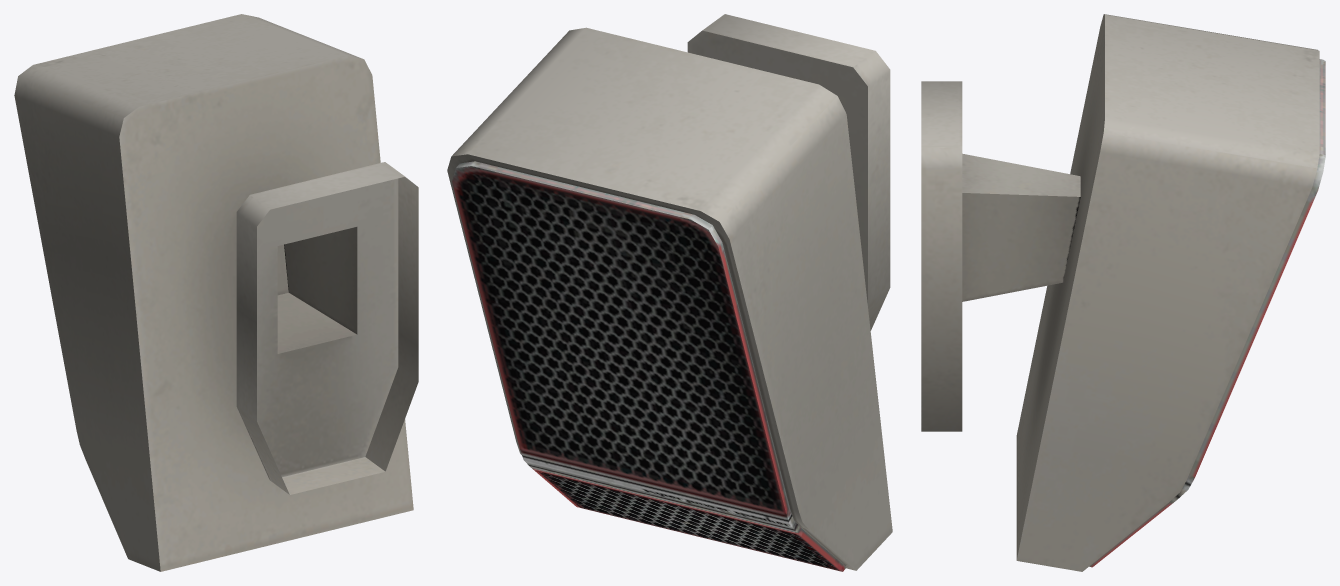
File: Loudspeaker07.FBX
The picture shows the model from 3 angles, left to right: view 1: azimuth 30°, elevation 25°; view 2: azimuth 150°, elevation 25°; view 3: azimuth 270°, elevation 25°; orthographic projection. The views are drawn at different scales.
Visible parts, largest first — view 1: Loudspeaker07; view 2: Loudspeaker07; view 3: Loudspeaker07.
Boxes of the visible parts, <box> form: Loudspeaker07: <box>14,14,418,571</box>; Loudspeaker07: <box>447,14,892,571</box>; Loudspeaker07: <box>921,14,1325,571</box>.
Size of the model in its own units: 28.55 by 47.29 by 39.07.
